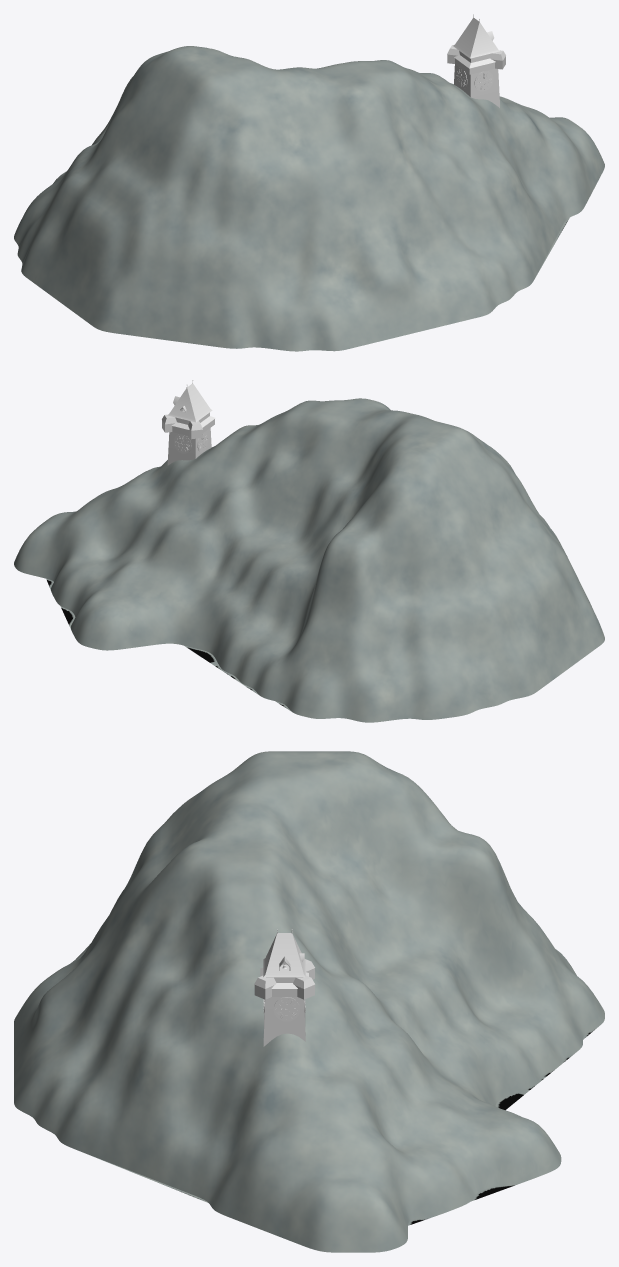
File: Schlossberggestaucht2.fbx
The picture shows the model from 3 angles, top to bottom: view 1: azimuth 30°, elevation 25°; view 2: azimuth 150°, elevation 25°; view 3: azimuth 270°, elevation 25°; orthographic projection. The views are drawn at different scales.
Parts seen in each view (by area): view 1: Schlossberg, Dach, Haus, Disc; view 2: Schlossberg, Dach, Haus; view 3: Schlossberg, Dach, Haus.
Part boxes in pixels (x1,y1,x2,y2): Schlossberg: (14, 46, 604, 351); Dach: (447, 18, 505, 74); Haus: (454, 51, 499, 107); Disc: (456, 68, 493, 91); Schlossberg: (14, 398, 604, 722); Dach: (162, 383, 215, 439); Haus: (167, 412, 211, 465); Schlossberg: (14, 751, 604, 1252); Dach: (254, 933, 314, 999); Haus: (263, 977, 305, 1046).
Size of the model in its own units: 321 by 114 by 243.
Materials: 1 (1 with a texture image).
